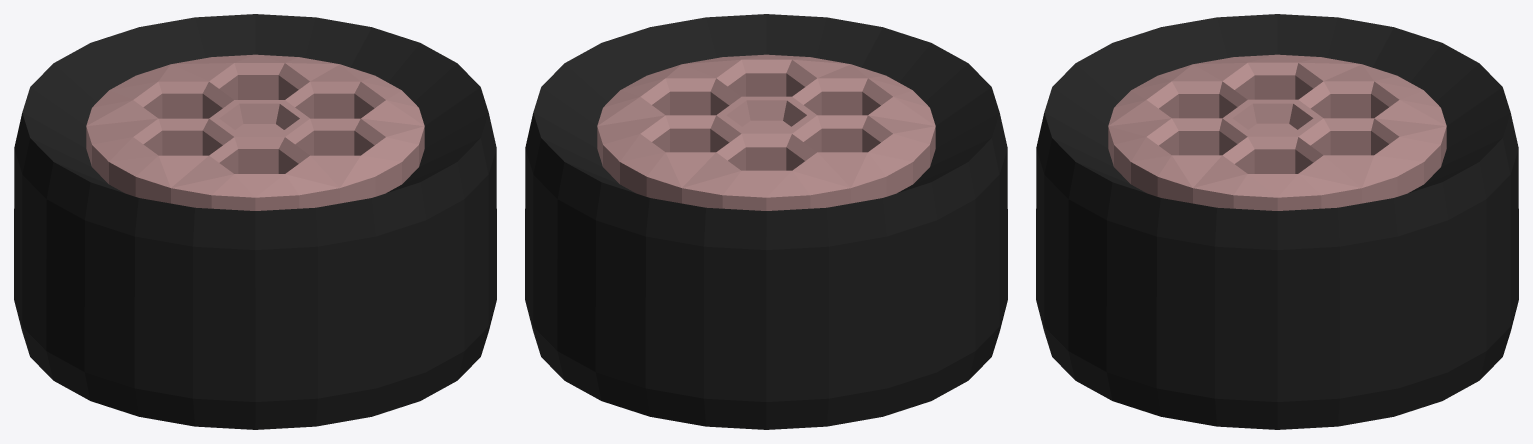
Rendered from wheel.dae.
3 views of the same model, side by side, from view 1: azimuth 30°, elevation 25°; view 2: azimuth 150°, elevation 25°; view 3: azimuth 270°, elevation 25° (orthographic).
Visible parts, largest first — view 1: Wheel; view 2: Wheel; view 3: Wheel.
Part boxes in pixels (x1,y1,x2,y2): Wheel: (14, 14, 496, 429); Wheel: (525, 14, 1007, 429); Wheel: (1036, 14, 1518, 429).
Size of the model in its own units: 2 by 2 by 1.
1 material, 1 textured.
